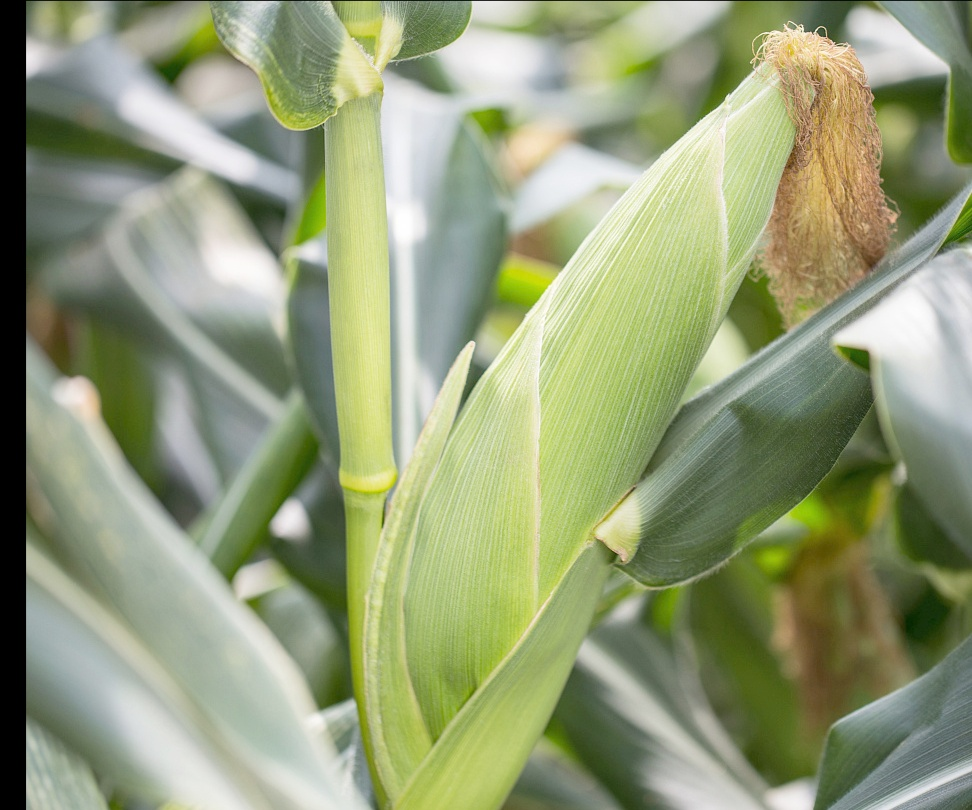corn_plant: (360, 4, 899, 795)
